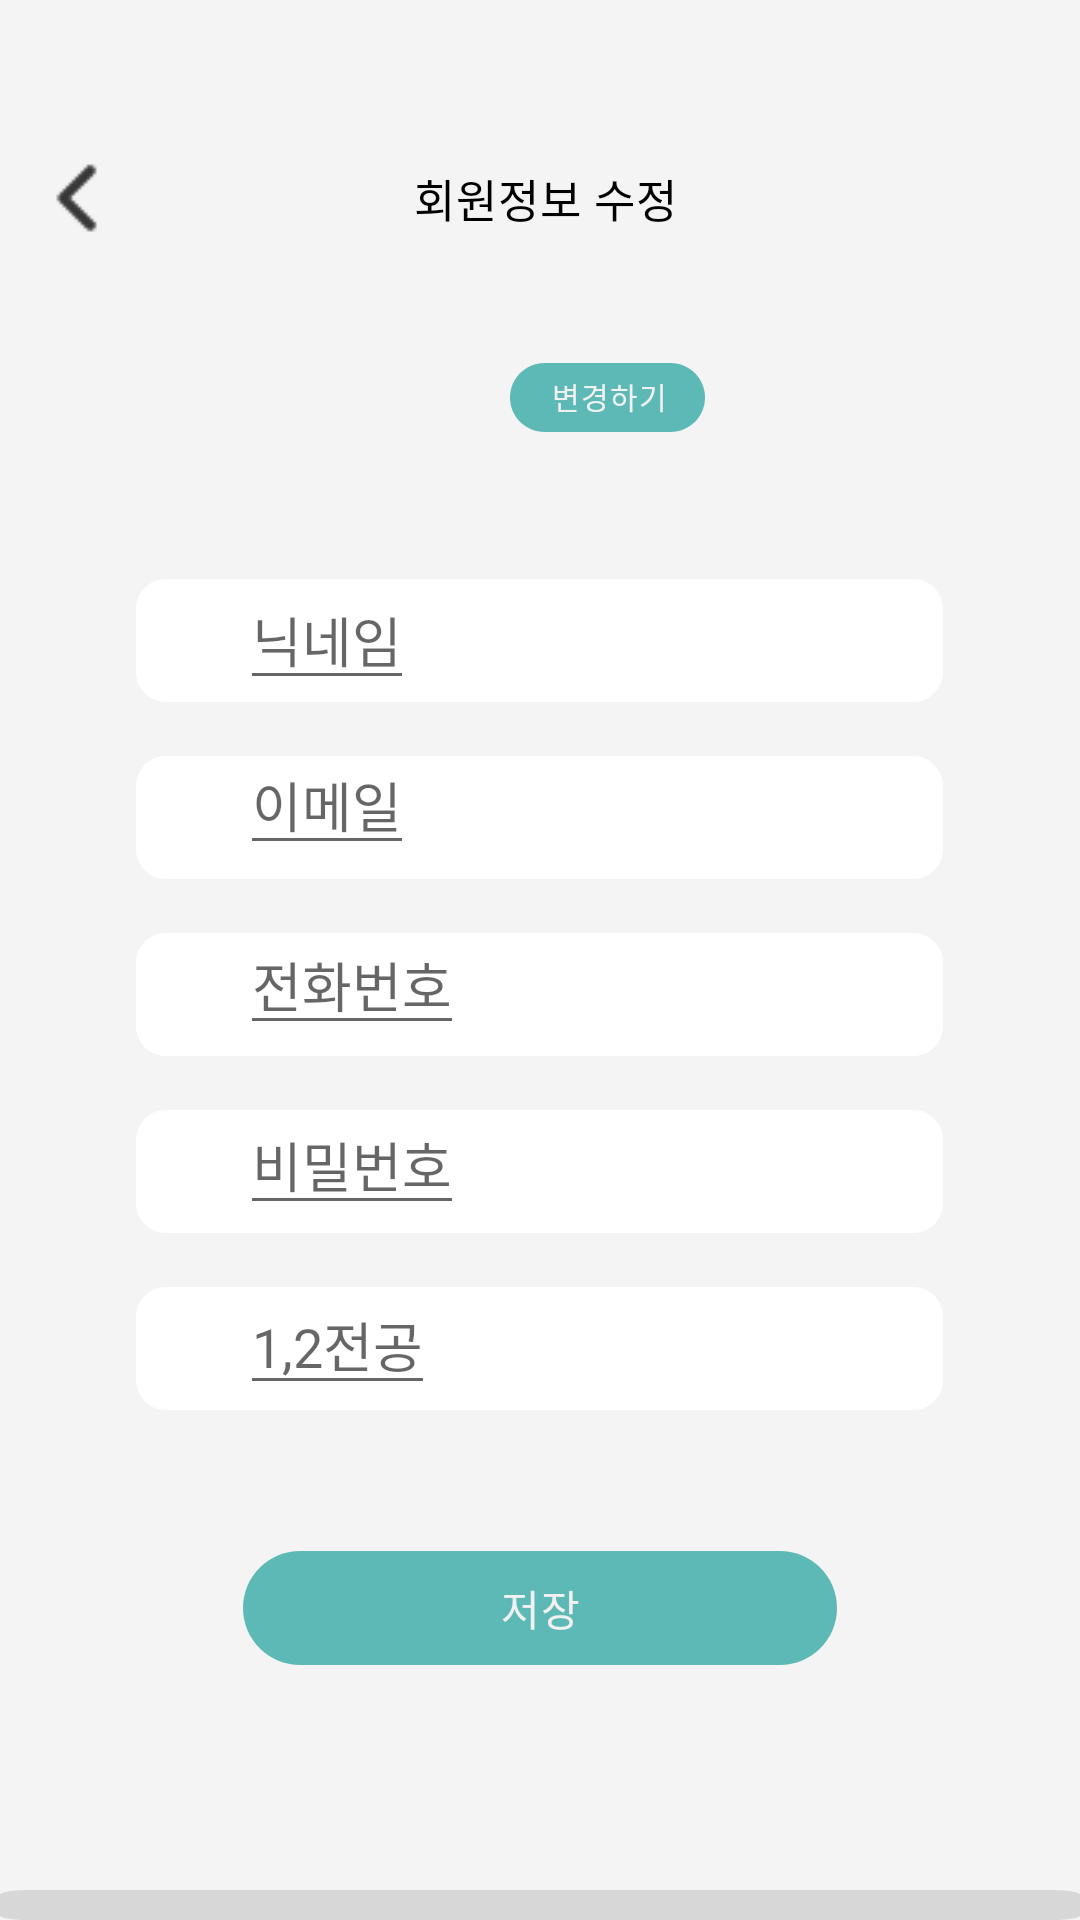

Icon click points for this 1080x1920 phone screenshot, format (x=x, y=y):
chevron: (x=76, y=198)
